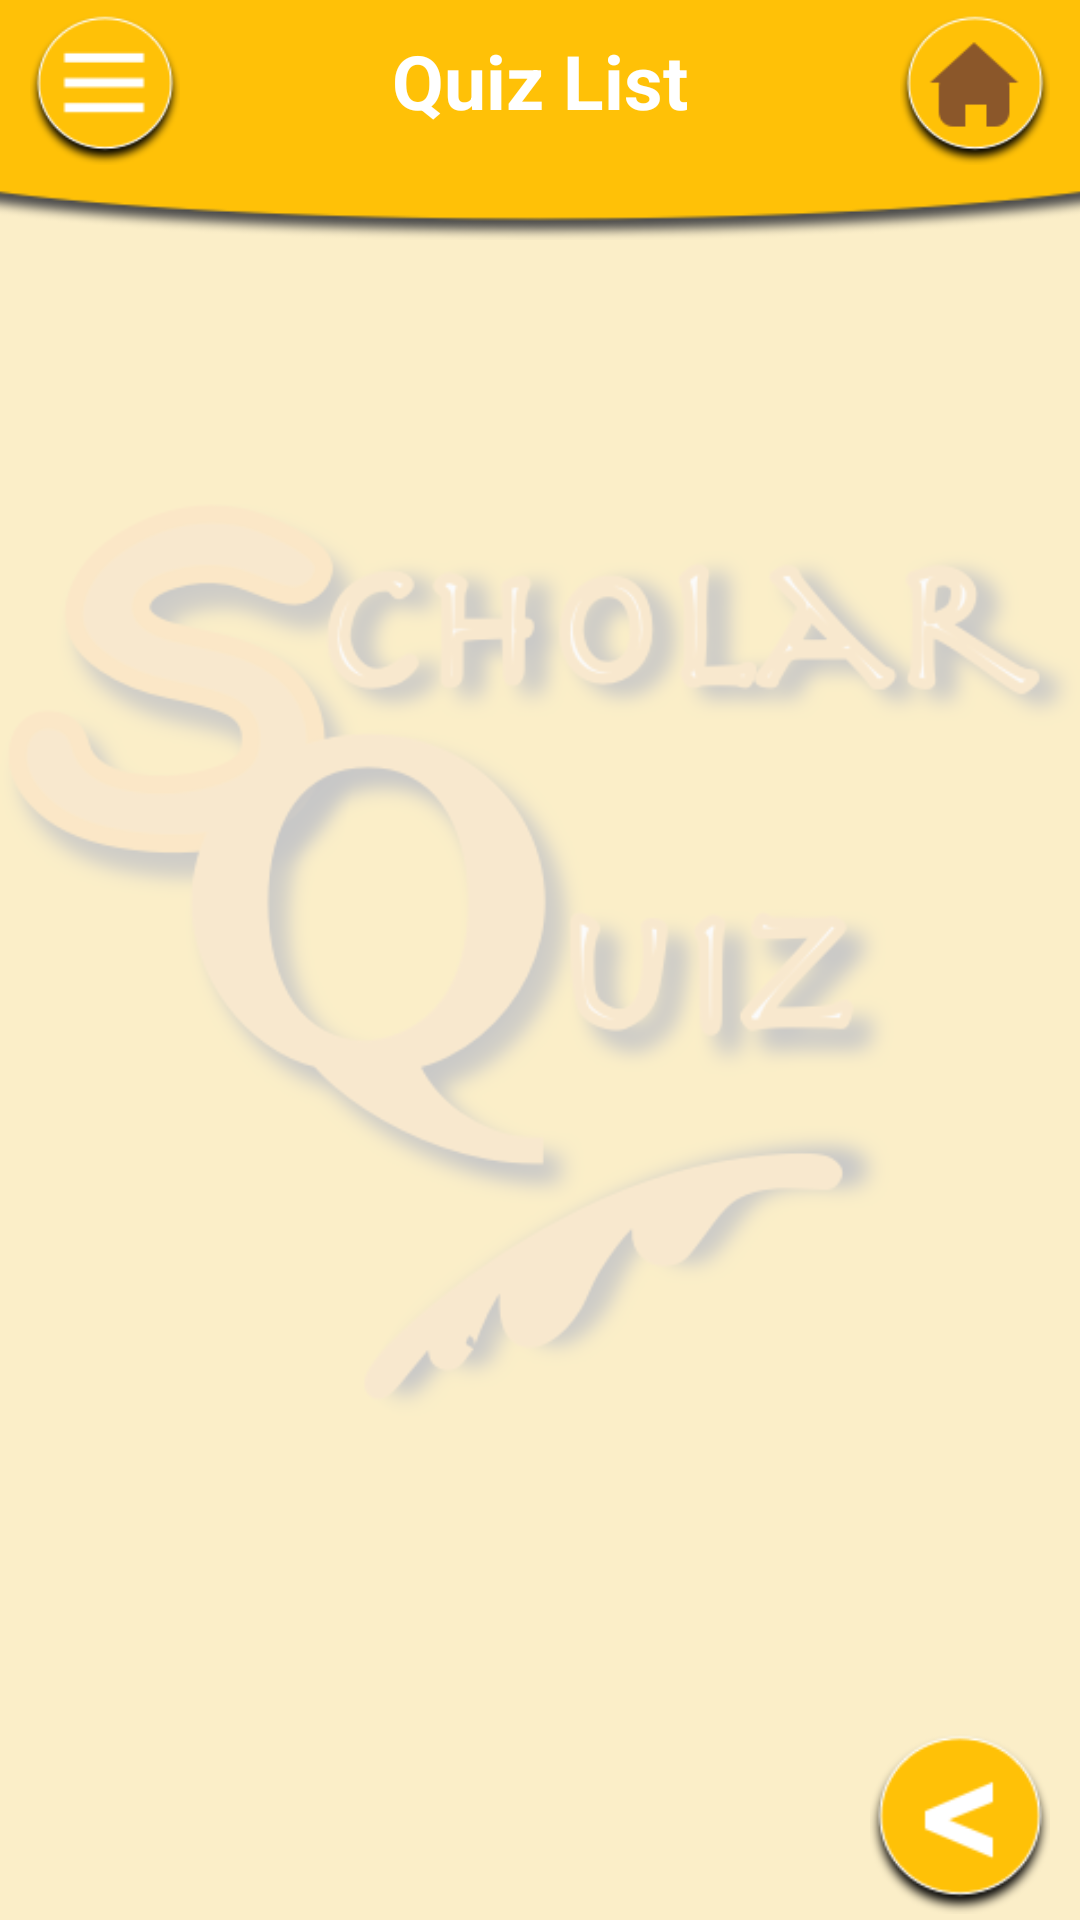

Where to tap for icons on this 1080x1920 app screen, as point (x, y):
backbutton: point (960, 1824)
home brown: point (975, 89)
menubutton: point (105, 89)
